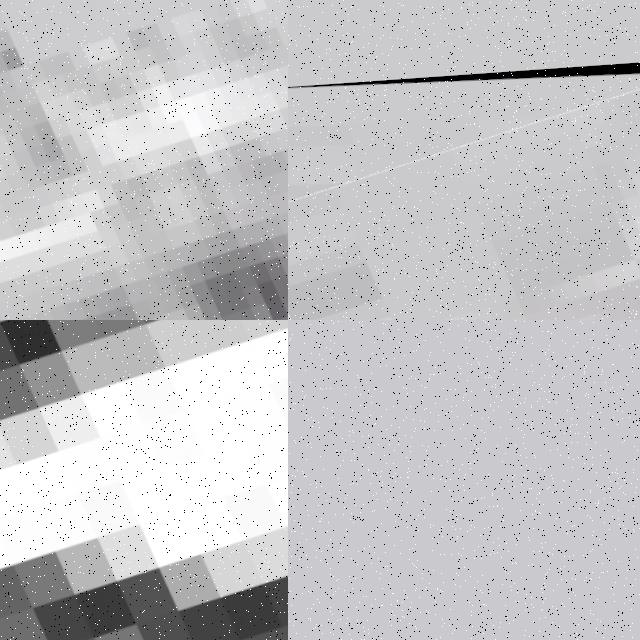drone: (288, 44, 640, 320), (0, 0, 288, 320), (0, 320, 288, 640)
